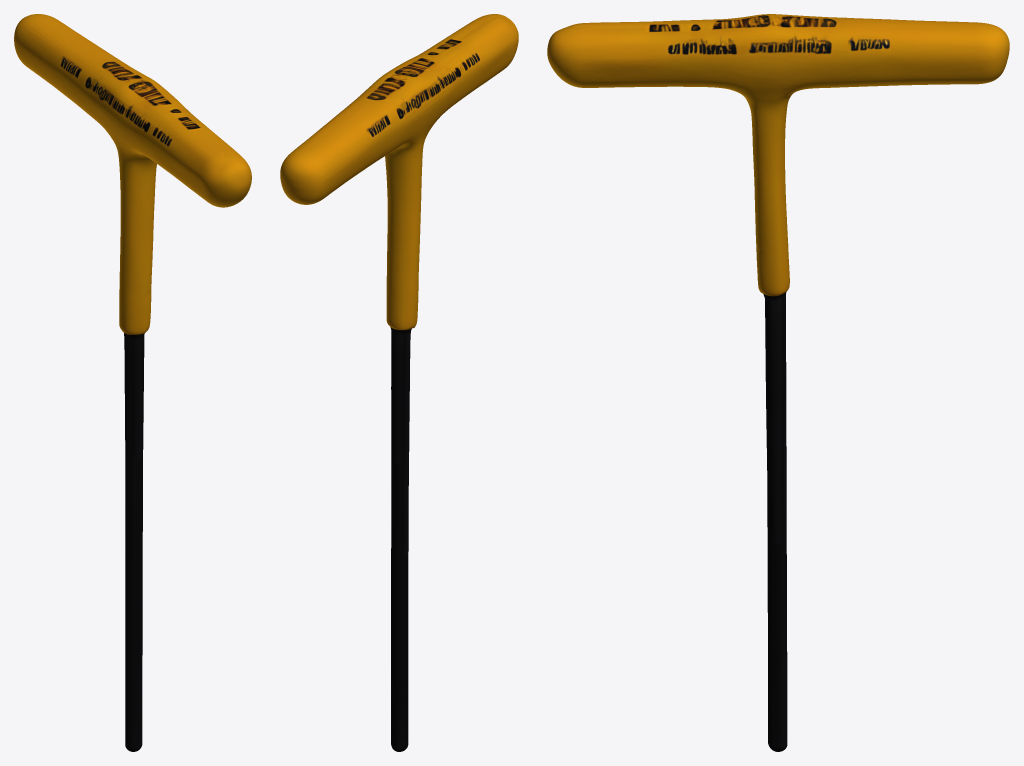
File: base_basic_pbr.fbx
3 views of the same model, side by side, from view 1: azimuth 30°, elevation 25°; view 2: azimuth 150°, elevation 25°; view 3: azimuth 270°, elevation 25° (orthographic). The views are drawn at different scales.
Parts seen in each view (by area): view 1: model; view 2: model; view 3: model.
Boxes of the visible parts, left/top/right/bottom form: model: left=14, top=14, right=251, bottom=751; model: left=280, top=14, right=518, bottom=751; model: left=547, top=14, right=1009, bottom=751.
Bounding box in the file's own units: 15.72 × 179 × 103.
Materials: 1 (1 with a texture image).
